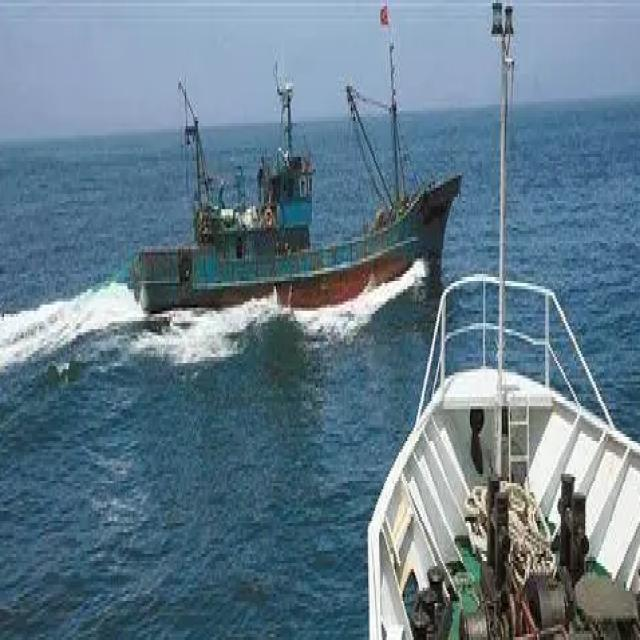fishing boat: (360, 264, 640, 640), (132, 12, 453, 304)
